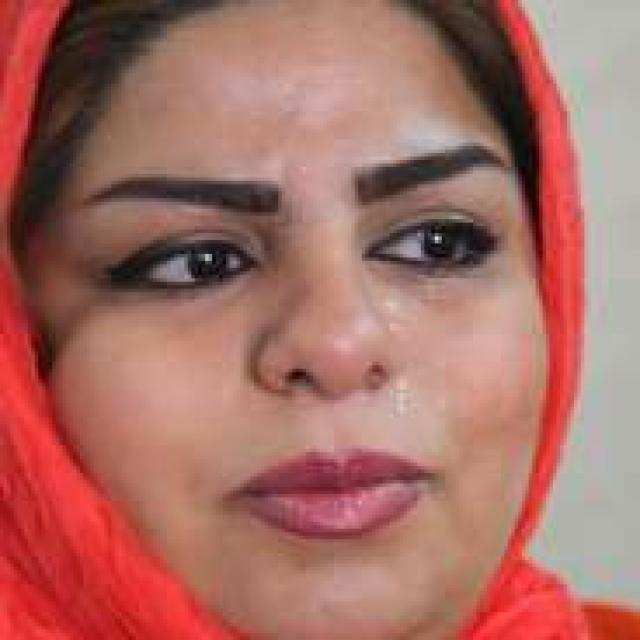Depress: (22, 5, 552, 637)
